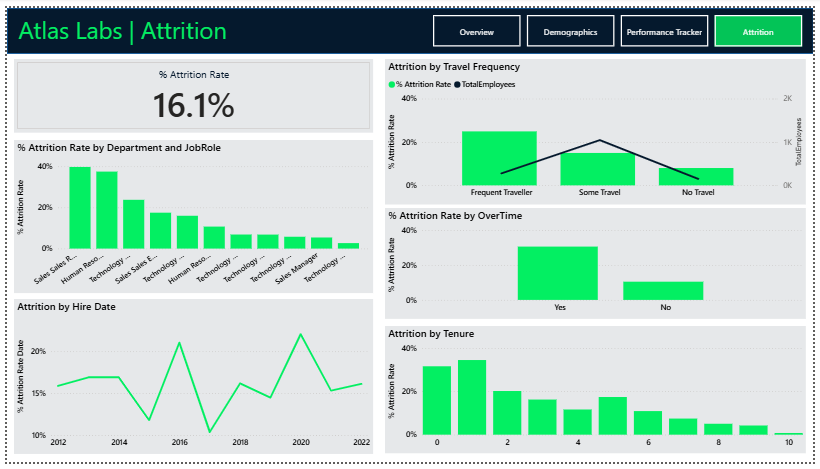

What the dashboard file says about the page in this screenshot:
{"tool":"powerbi","page":{"name":"Attrition","canvas":[1280,720],"ordinal":3},"visuals":[{"type":"cardVisual","fields":{"Data":["_Measures.% Attrition Rate"]},"box":[11.5,80.6,570.2,116.6],"z":0},{"type":"columnChart","fields":{"Category":["DimEmployee.Department","DimEmployee.JobRole"],"Y":["_Measures.% Attrition Rate"]},"box":[11.5,210.2,570.2,243.4],"z":1000},{"type":"lineChart","title":"Attrition by Hire Date","fields":{"Y":["_Measures.% Attrition Rate Date"],"Category":["DimDate.Date.Variation.Date Hierarchy.Year"]},"box":[11.5,462.2,570.2,246.2],"z":2000},{"type":"lineClusteredColumnComboChart","title":"Attrition by Travel Frequency","fields":{"Category":["DimEmployee.BusinessTravel"],"Y":["_Measures.% Attrition Rate"],"Y2":["_Measures.TotalEmployees"]},"box":[600.1,81.3,668.1,230.6],"z":3000},{"type":"columnChart","fields":{"Y":["_Measures.% Attrition Rate"],"Category":["DimEmployee.OverTime"]},"box":[600.1,317.8,668.1,175.9],"z":4000},{"type":"columnChart","title":"Attrition by Tenure","fields":{"Y":["_Measures.% Attrition Rate"],"Category":["DimEmployee.YearsAtCompany"]},"box":[600.1,504,668.1,202.5],"z":5000},{"type":"shape","box":[0,0,1280,72.6],"z":6000},{"type":"textbox","box":[12.1,4.5,367.7,63.5],"z":7000},{"type":"pageNavigator","box":[677,11.8,586.8,50.3],"z":8000}]}

Visuals, with their boxes in screenshot pixels (x1, y1, x2, y2), scaled from the page's 1280x720 canvas onto the 820x469 screenshot:
cardVisual - _Measures.% Attrition Rate: (left=7, top=53, right=373, bottom=128)
columnChart - DimEmployee.Department x DimEmployee.JobRole: (left=7, top=137, right=373, bottom=295)
"Attrition by Hire Date" lineChart: (left=7, top=301, right=373, bottom=461)
"Attrition by Travel Frequency" lineClusteredColumnComboChart: (left=384, top=53, right=812, bottom=203)
columnChart - _Measures.% Attrition Rate x DimEmployee.OverTime: (left=384, top=207, right=812, bottom=322)
"Attrition by Tenure" columnChart: (left=384, top=328, right=812, bottom=460)
shape: (left=0, top=0, right=819, bottom=47)
textbox: (left=8, top=3, right=243, bottom=44)
pageNavigator: (left=434, top=8, right=810, bottom=40)
